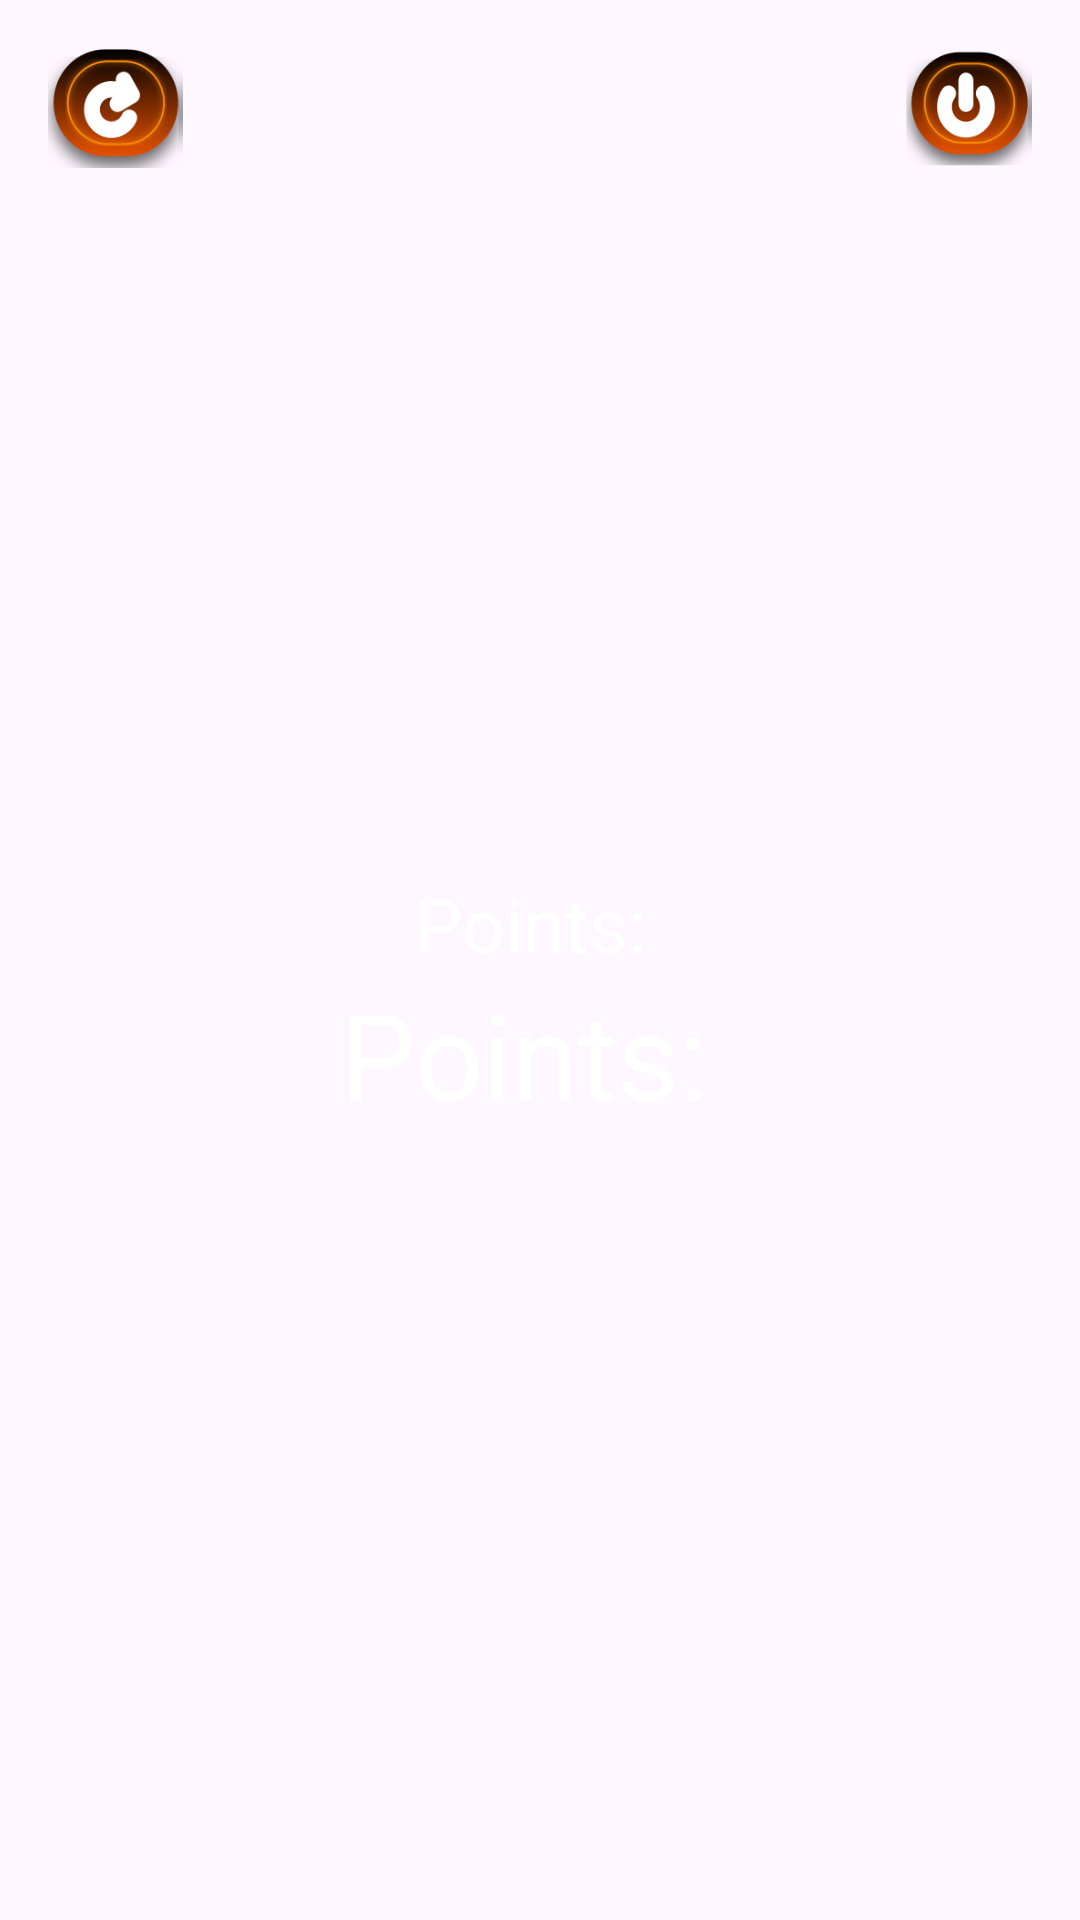

Named icons in this screenshot (1080px×1920px) and their bounding boxes, (left=x1, top=y1, right=x2, bottom=y2):
exit: (left=906, top=51, right=1032, bottom=165)
restart: (left=48, top=49, right=183, bottom=168)
